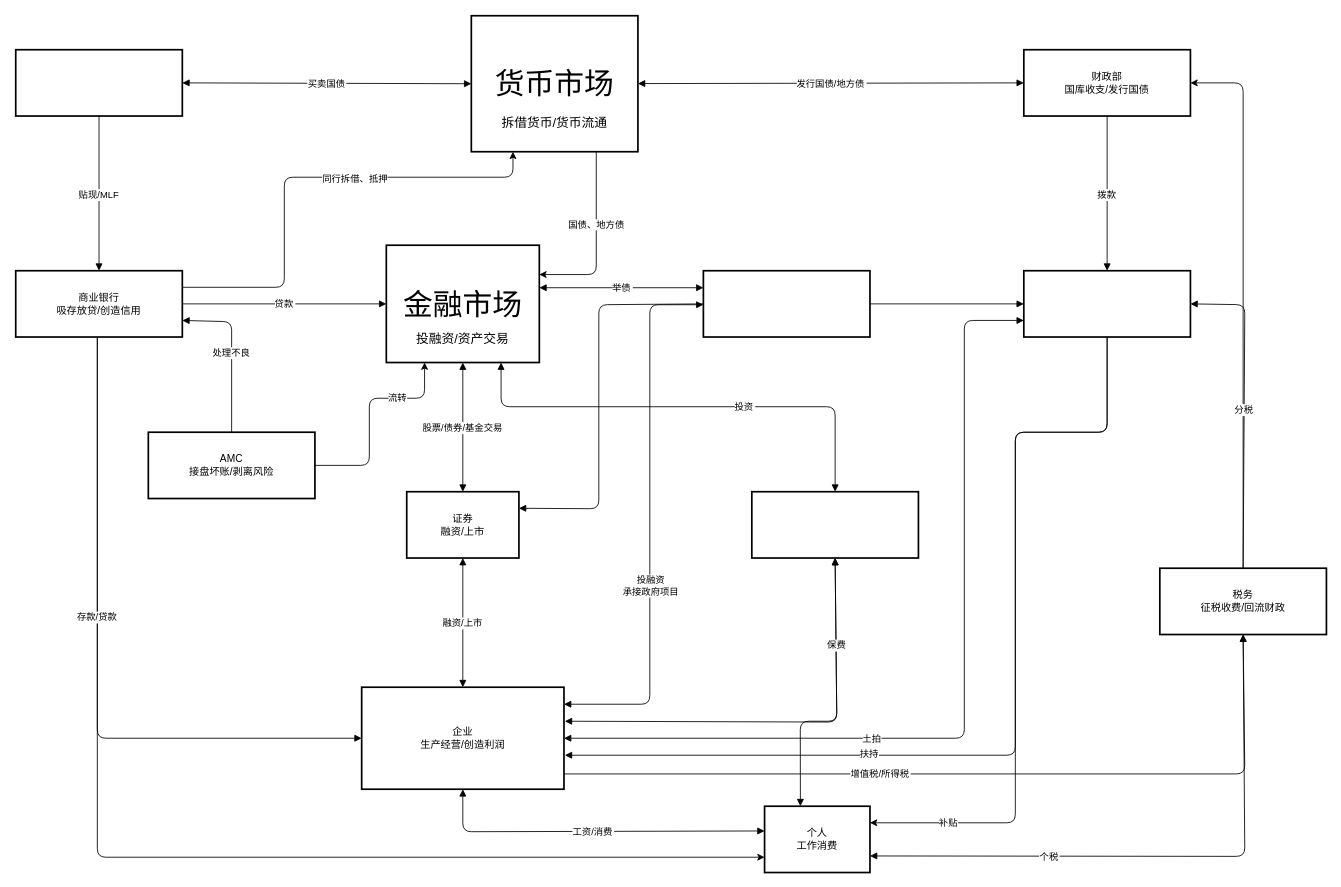
The diagram is 1341 pixels wide and 887 high, and some of its shapes have lost their labels. Each missing label, with the centre of its shape:
"保险 签单保供/分摊风险" goes at (835,524).
"各级政府 花钱办事/财政支出" goes at (1107,303).
"地方城投/城发 盘活存量/支撑基建" goes at (786,303).
"央行 印钞放水/调控货币" goes at (98,82).
